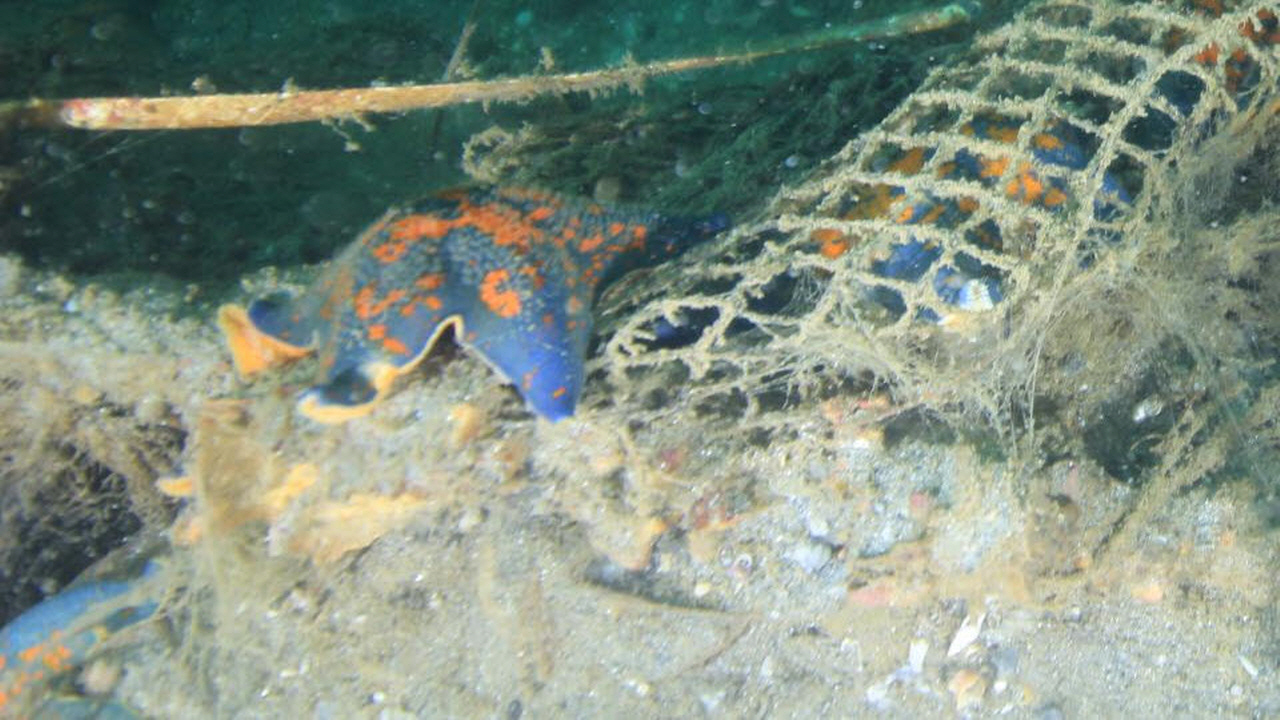fish net: (579, 0, 1280, 378)
